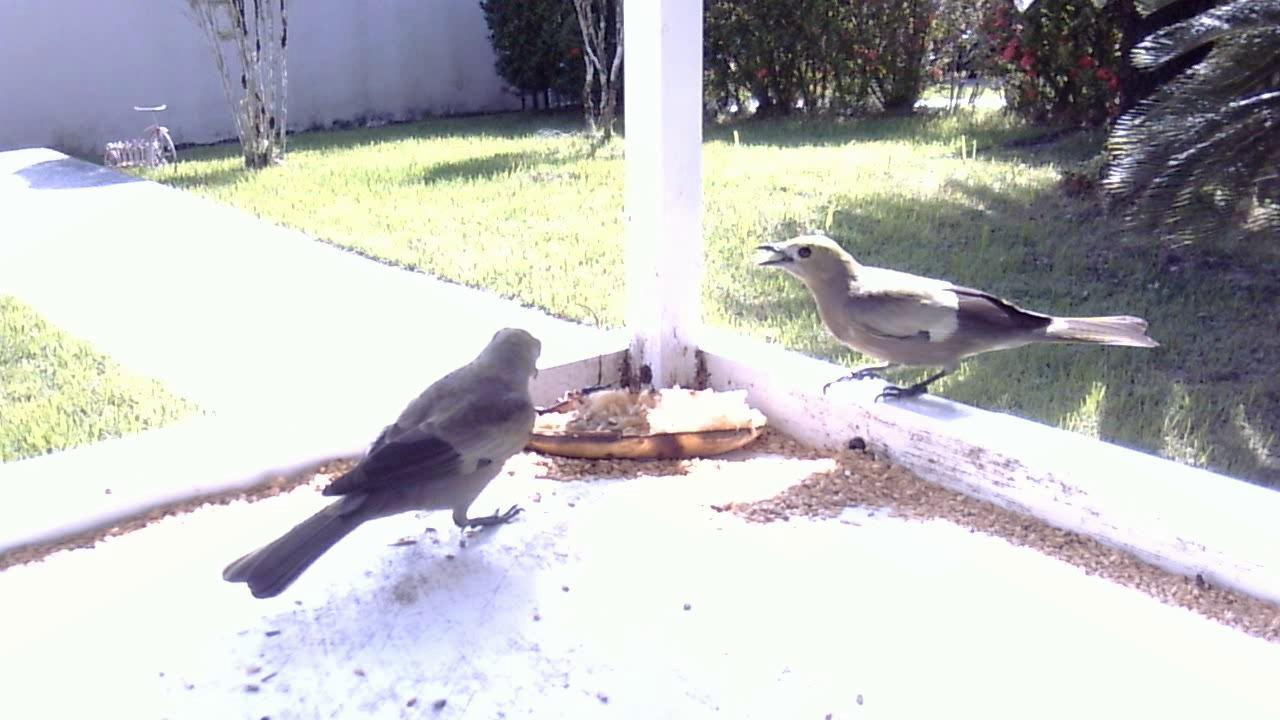sanhaco_do_coqueiro: (209, 311, 559, 611), (740, 220, 1153, 428)
